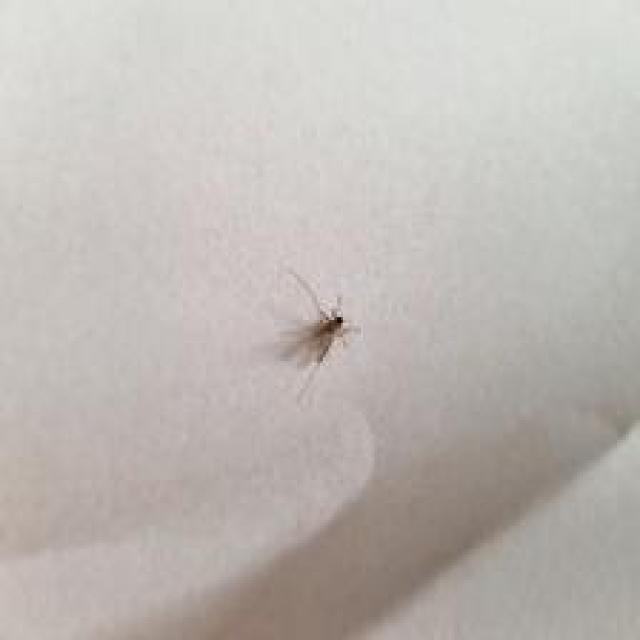Culex: (273, 266, 358, 403)
